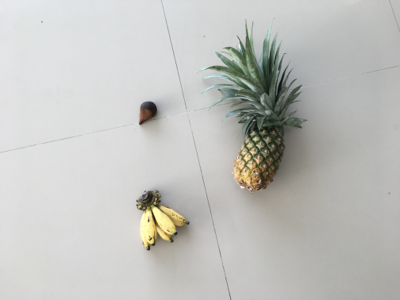banana: (136, 191, 190, 253)
pineapple: (201, 20, 305, 192)
snake fruit: (139, 101, 156, 124)
